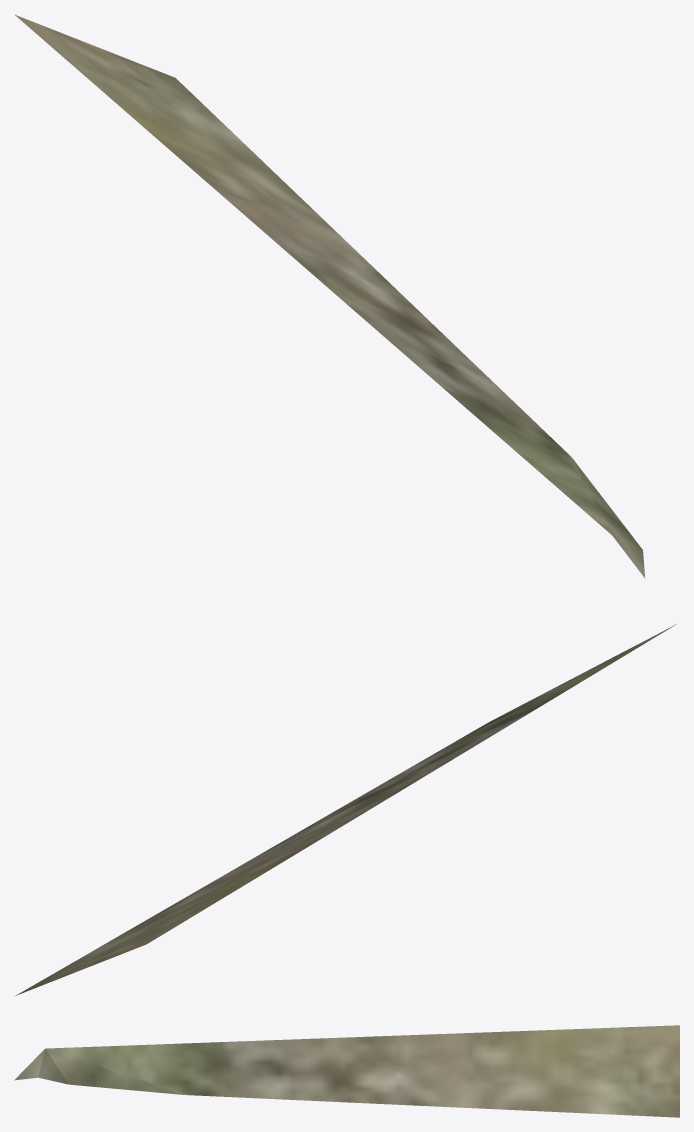
The picture shows the model from 3 angles, top to bottom: view 1: azimuth 30°, elevation 25°; view 2: azimuth 150°, elevation 25°; view 3: azimuth 270°, elevation 25°; orthographic projection. The views are drawn at different scales.
Size of the model in its own units: 0.1743 by 0.0915 by 1.06.
Materials: 1 (1 with a texture image).
